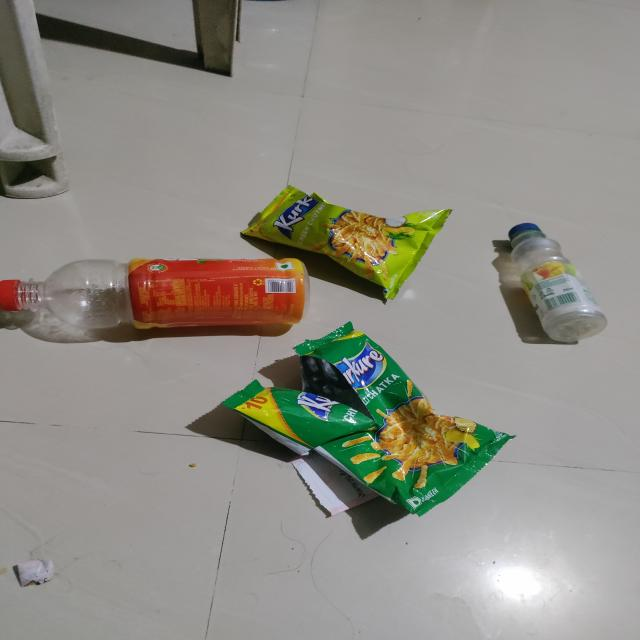plastic: (207, 321, 482, 536), (0, 238, 330, 353), (216, 185, 453, 305), (474, 192, 600, 366)
